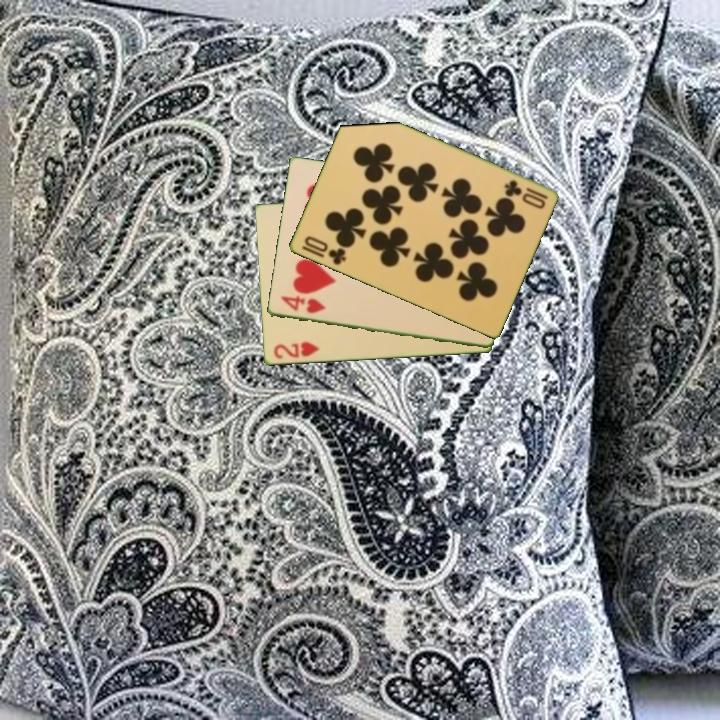10c: (300, 233, 349, 268), (500, 176, 550, 202)
2h: (270, 338, 322, 362)
4h: (277, 293, 328, 317)
